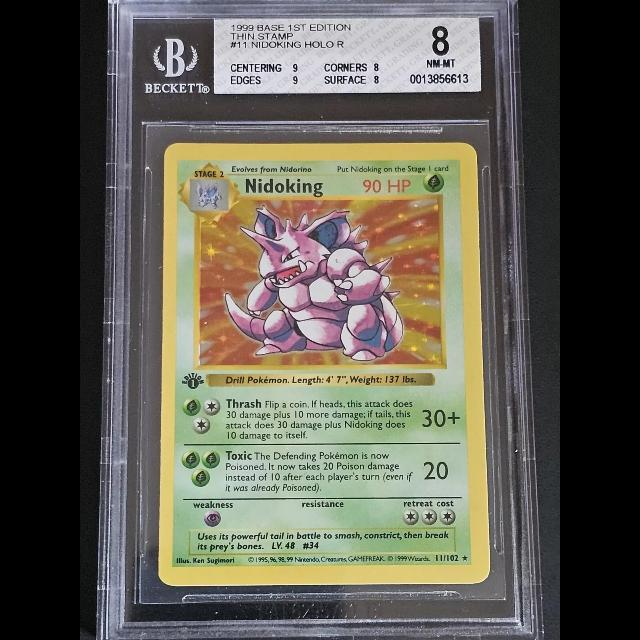bgs_label: (213, 17, 481, 93)
bgs_slab: (105, 0, 544, 640)
card: (157, 142, 492, 587)
